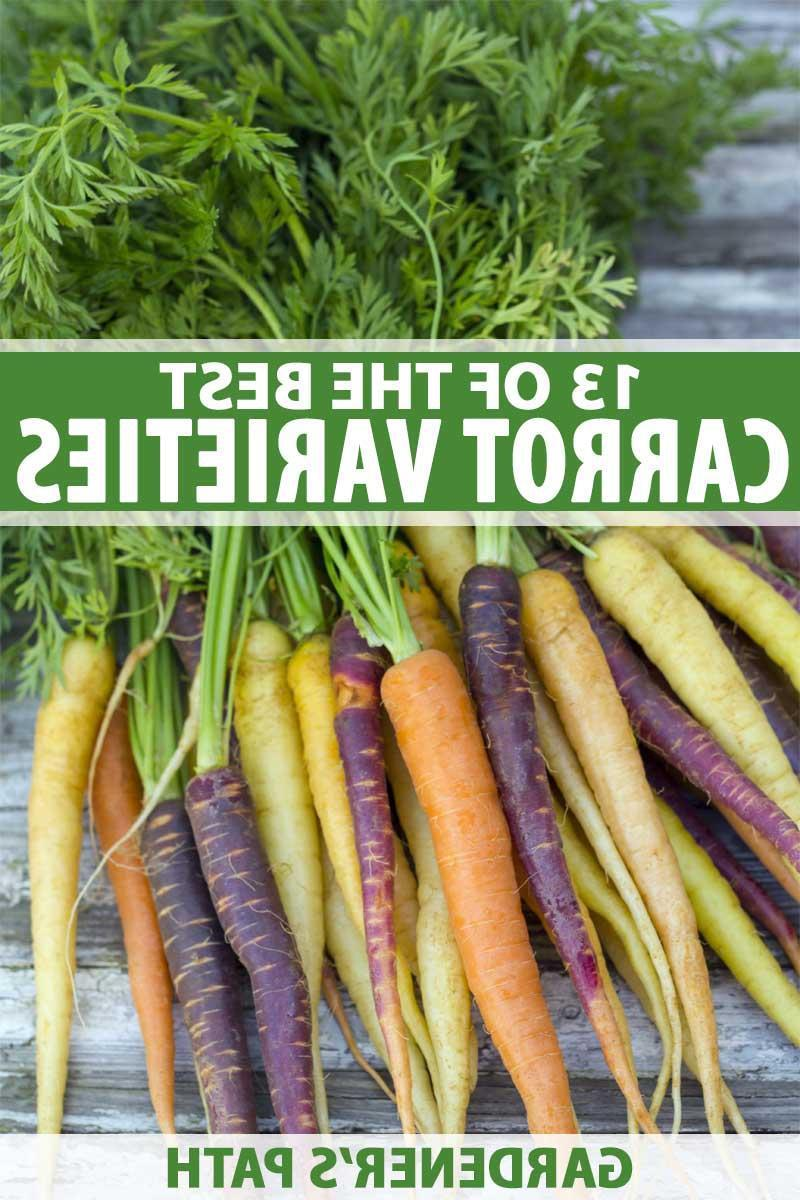carrot: (370, 637, 562, 1200)
